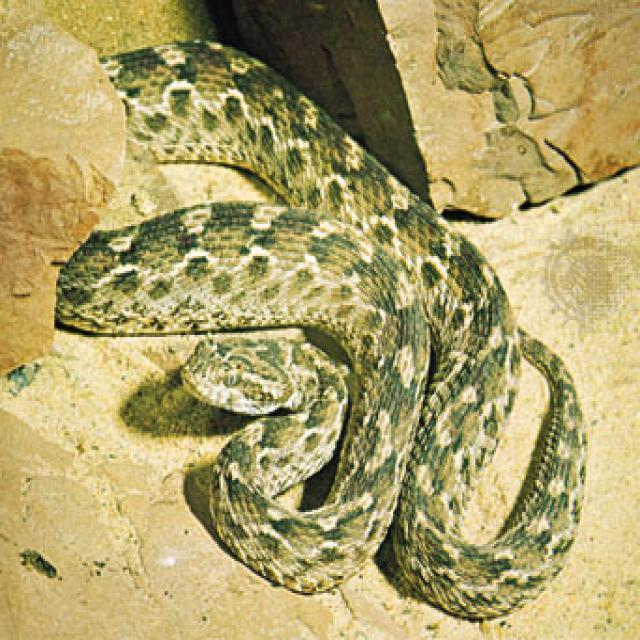Snake: (50, 36, 588, 621)
